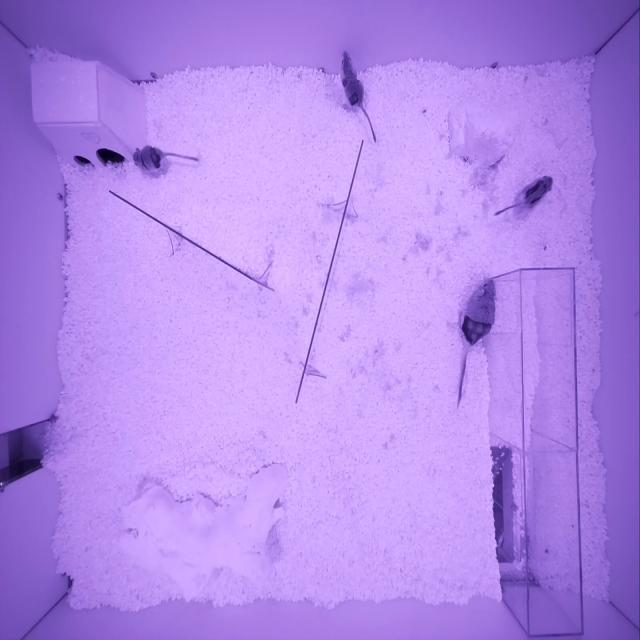adult_back: (461, 279, 498, 345)
pup_h_stripe: (133, 145, 163, 173)
pup_spotted: (340, 50, 363, 107)
pup_v_stripe: (524, 175, 553, 207)
